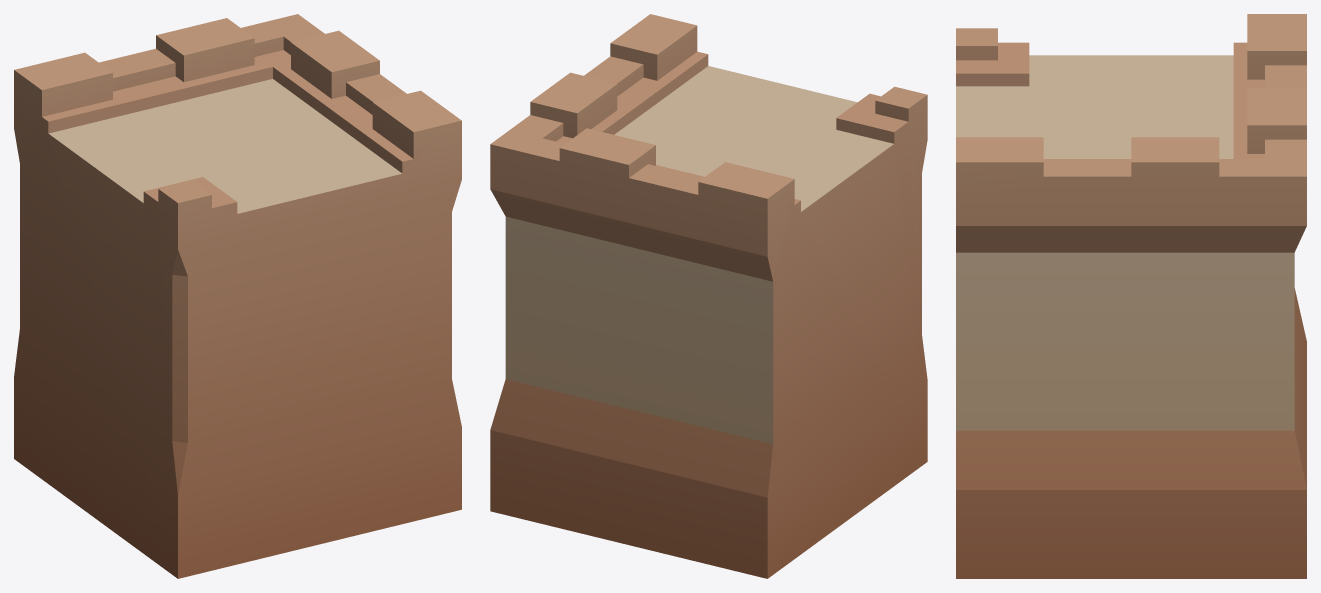
The model's file is wall-corner.glb.
3 views of the same model, side by side, from view 1: azimuth 30°, elevation 25°; view 2: azimuth 150°, elevation 25°; view 3: azimuth 270°, elevation 25° (orthographic). The views are drawn at different scales.
Visible parts, largest first — view 1: wall-corner; view 2: wall-corner; view 3: wall-corner.
Part boxes in pixels (left/top/right/bottom): wall-corner: left=14, top=14, right=461, bottom=578; wall-corner: left=490, top=14, right=927, bottom=578; wall-corner: left=956, top=14, right=1306, bottom=578.
Size of the model in its own units: 1 by 1.31 by 1.
